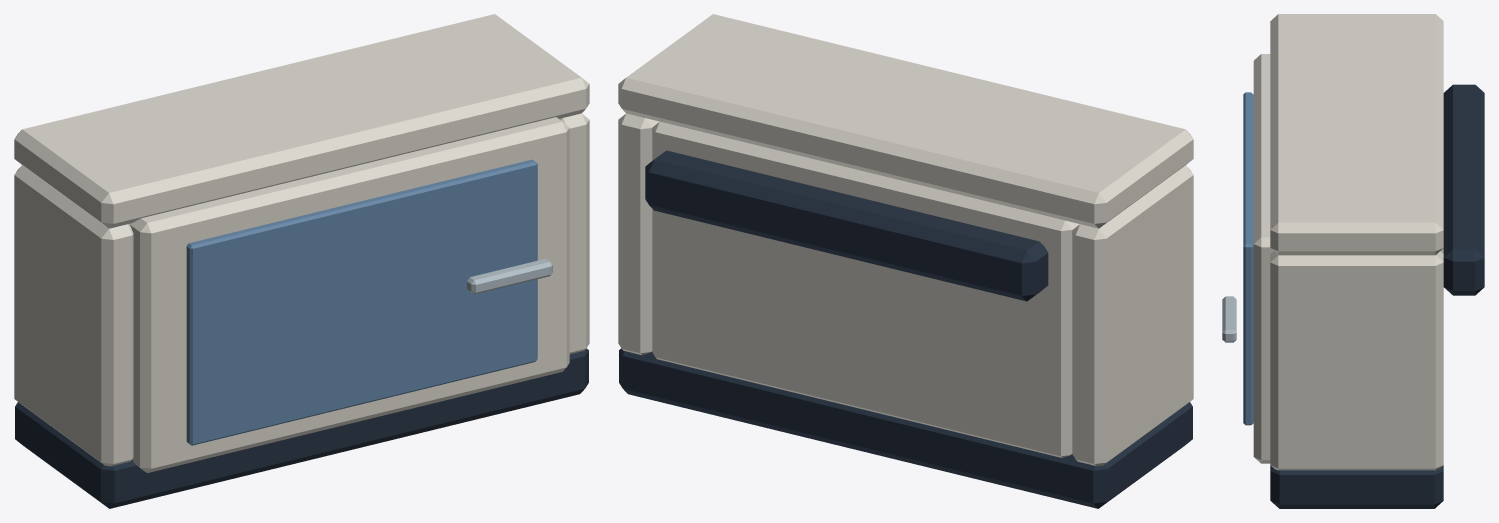
File: storage_11.glb
3 renders of one model, left to right at view 1: azimuth 30°, elevation 25°; view 2: azimuth 150°, elevation 25°; view 3: azimuth 270°, elevation 25°, orthographic. The views are drawn at different scales.
Parts seen in each view (by area): view 1: InsetPanel, Top, DoorPanel, Side (×2), Base, Handle; view 2: Back, Top, Side (×2), WallMount, Base; view 3: Top, Side, WallMount, DoorPanel, Base, InsetPanel, Handle.
Boxes of the visible parts, bbox=[...] form: InsetPanel: bbox=[186, 159, 537, 445]; Top: bbox=[14, 14, 589, 228]; DoorPanel: bbox=[130, 117, 569, 472]; Side (×2): bbox=[14, 113, 589, 466]; Base: bbox=[15, 348, 588, 508]; Handle: bbox=[467, 259, 552, 294]; Back: bbox=[652, 121, 1079, 457]; Top: bbox=[618, 14, 1193, 228]; Side (×2): bbox=[618, 113, 1193, 466]; WallMount: bbox=[645, 150, 1048, 301]; Base: bbox=[619, 348, 1192, 508]; Top: bbox=[1270, 14, 1443, 255]; Side: bbox=[1270, 251, 1443, 470]; WallMount: bbox=[1443, 84, 1484, 295]; DoorPanel: bbox=[1253, 54, 1273, 463]; Base: bbox=[1270, 465, 1443, 508]; InsetPanel: bbox=[1243, 92, 1253, 425]; Handle: bbox=[1222, 296, 1236, 342].
Size of the model in its own units: 1 by 0.62 by 0.514.
